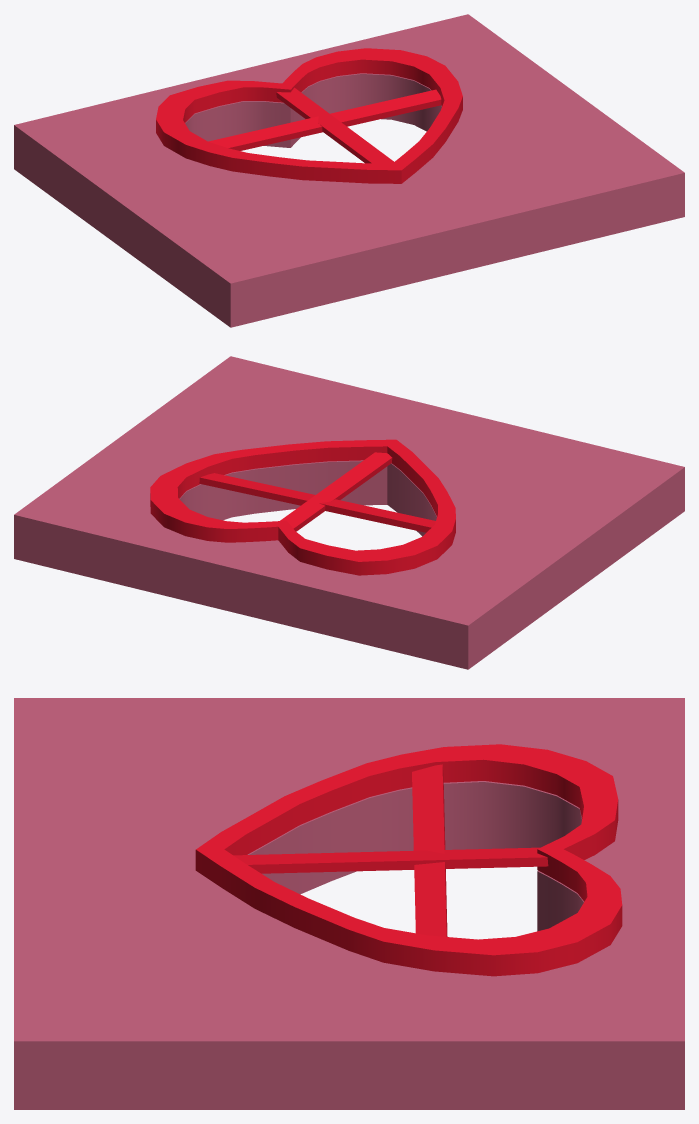
The model's file is heartdoor.FBX.
3 renders of one model, top to bottom at view 1: azimuth 30°, elevation 25°; view 2: azimuth 150°, elevation 25°; view 3: azimuth 270°, elevation 25°, orthographic. The views are drawn at different scales.
Visible parts, largest first — view 1: Box001, Line002, Box003, Box002; view 2: Box001, Line002, Box003, Box002; view 3: Box001, Line002, Box002, Box003.
Part boxes in pixels (box(x1,y1,x2,y2)): Box001: box(14, 14, 684, 327); Line002: box(156, 48, 462, 183); Box003: box(208, 89, 441, 150); Box002: box(276, 87, 393, 163); Box001: box(14, 356, 684, 669); Line002: box(150, 439, 455, 575); Box003: box(199, 473, 435, 532); Box002: box(280, 452, 392, 531); Box001: box(14, 698, 684, 1109); Line002: box(195, 744, 622, 976); Box002: box(233, 847, 548, 873); Box003: box(412, 764, 447, 936).
Size of the model in its own units: 40.81 by 5.02 by 33.72.
